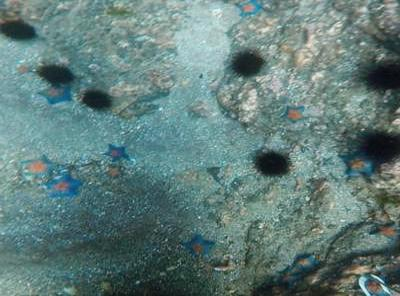urchin: (357, 127, 400, 166), (366, 57, 400, 92), (253, 148, 290, 180), (229, 48, 267, 78), (35, 62, 76, 87), (0, 17, 39, 43), (80, 87, 113, 113)
